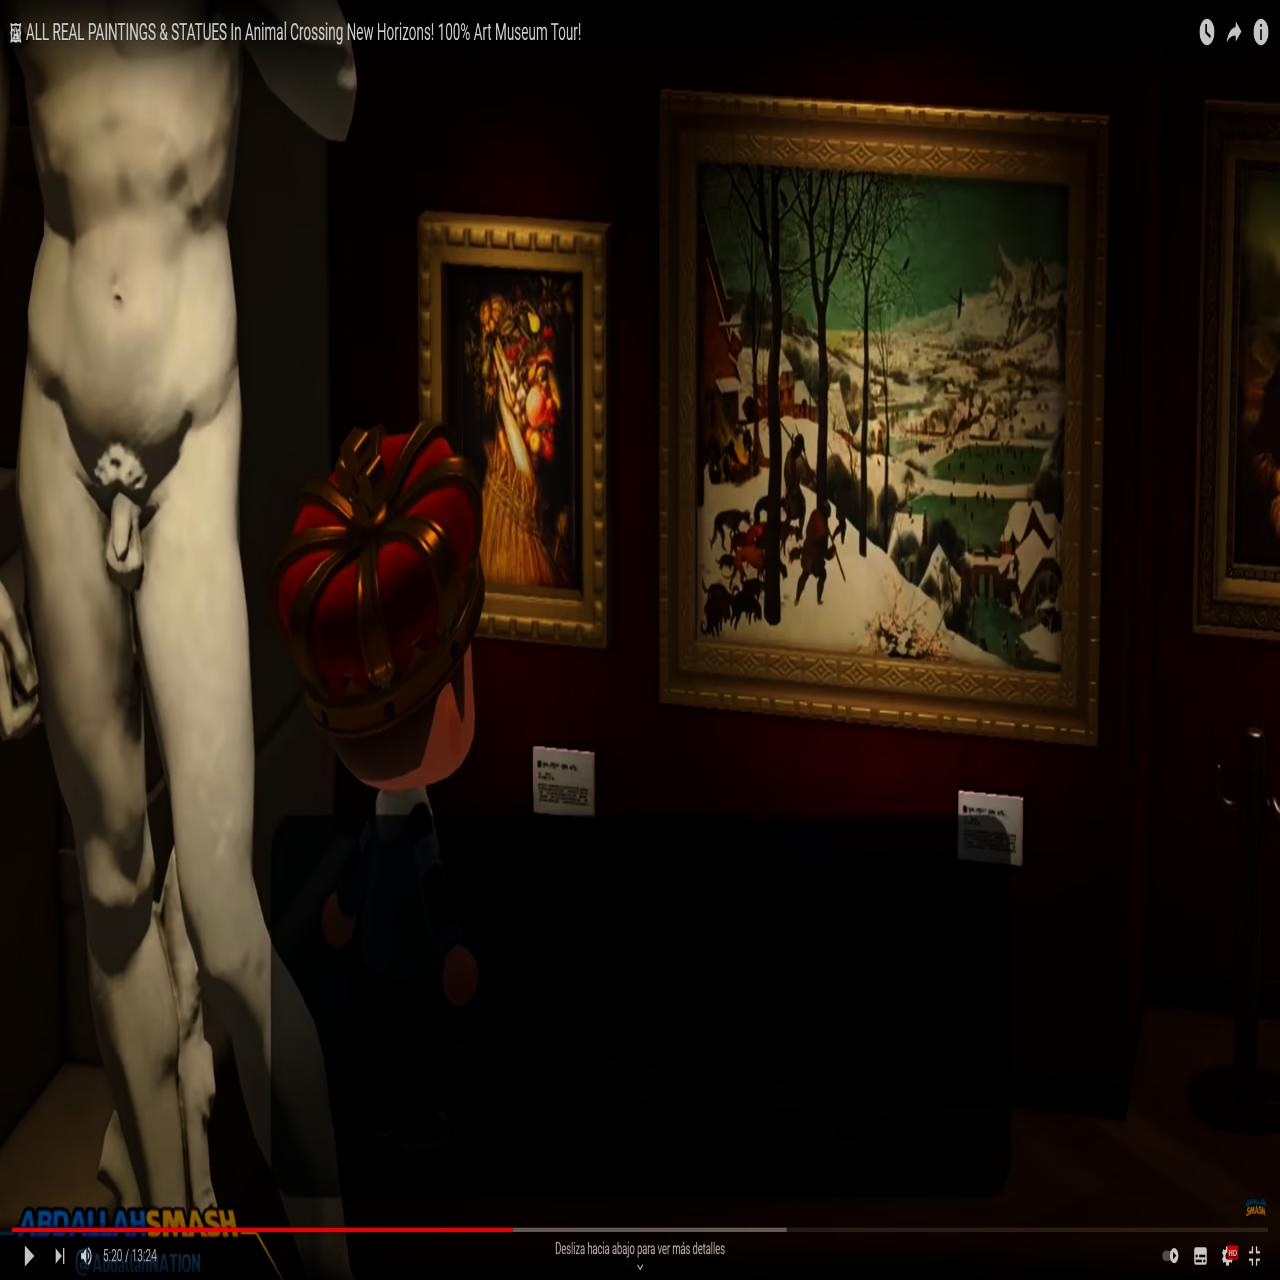HunterSnow: (701, 165, 1060, 663)
Summer: (461, 277, 579, 590)
